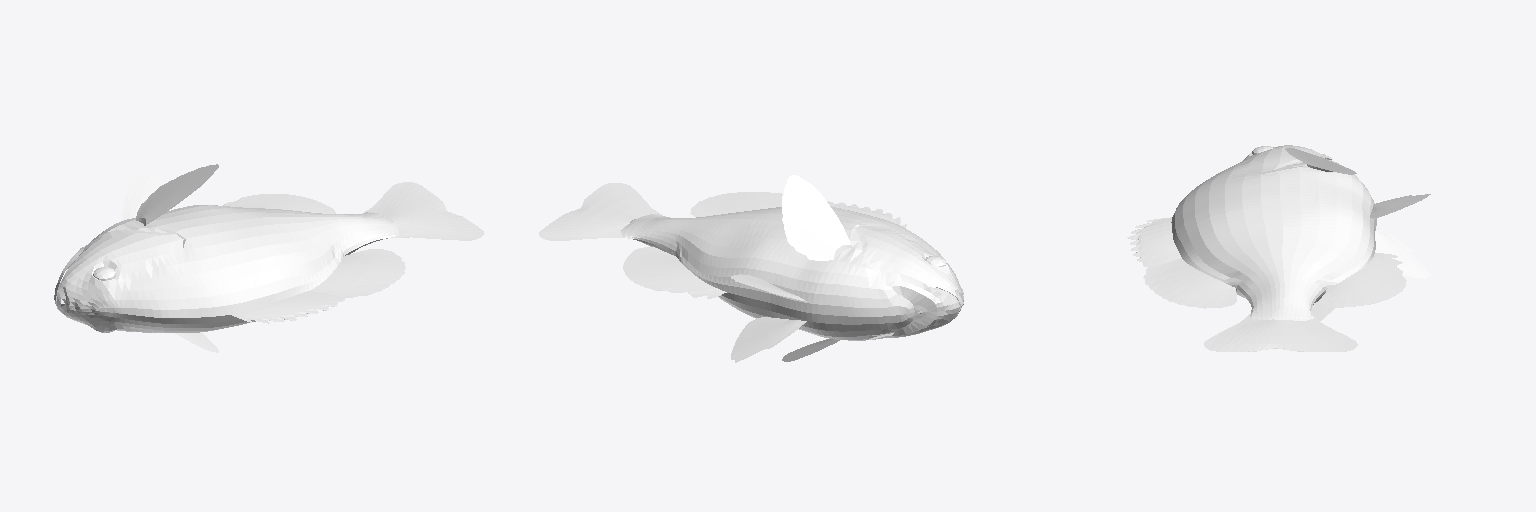
File: Bluegill.obj
3 views of the same model, side by side, from view 1: azimuth 30°, elevation 25°; view 2: azimuth 150°, elevation 25°; view 3: azimuth 270°, elevation 25° (orthographic).
Size of the model in its own units: 0.3992 by 0.1806 by 0.2686.